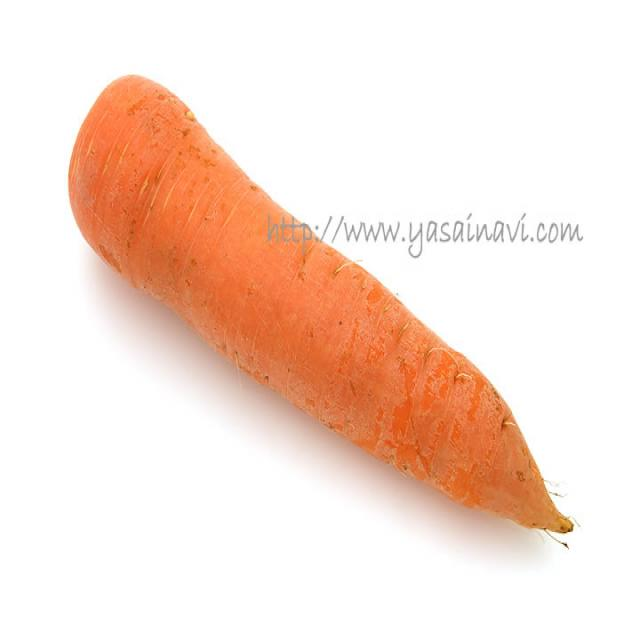Carrot: (64, 68, 583, 560)
